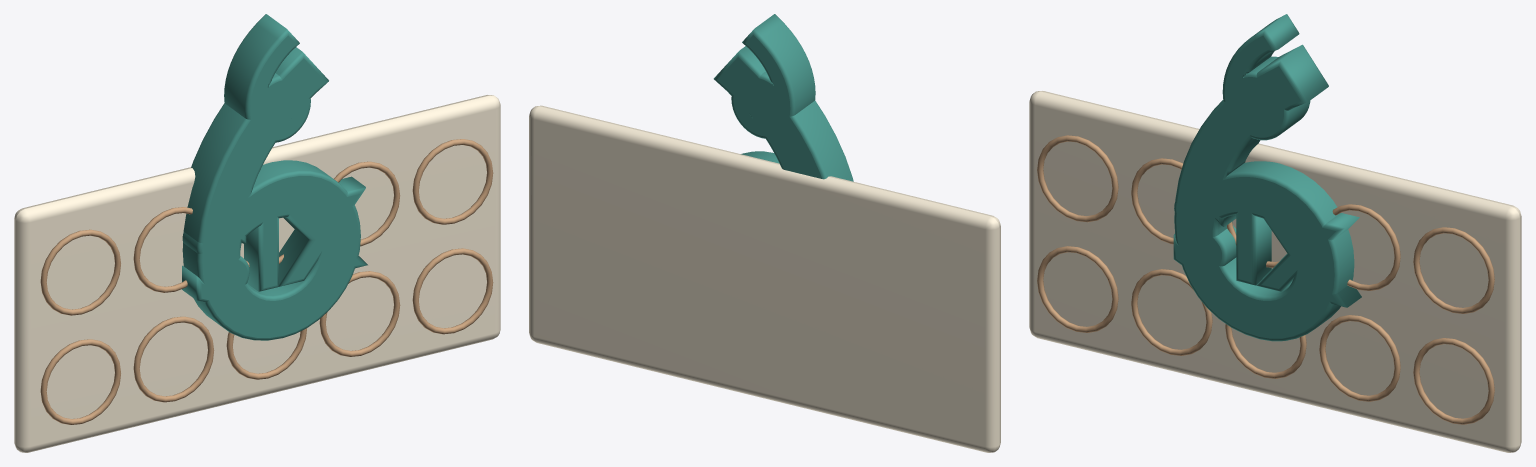
Rendered from number-6.glb.
3 views of the same model, side by side, from view 1: azimuth 30°, elevation 25°; view 2: azimuth 150°, elevation 25°; view 3: azimuth 330°, elevation 25° (orthographic). The views are drawn at different scales.
Parts seen in each view (by area): view 1: ten frame tray, number solid, number word, counting numeral, counting slot.005, counting slot.004, counting slot, counting slot.006, counting slot.009, counting slot.008, counting slot.001, counting slot.003 (+1 smaller); view 2: ten frame tray, number solid, counting numeral; view 3: ten frame tray, number solid, number word, counting numeral, counting slot.008, counting slot.004, counting slot.005, counting slot.009, counting slot, counting slot.006, counting slot.003, counting slot.001 (+1 smaller).
Boxes of the visible parts, box(x1,y1,x2,y2) form: ten frame tray: box(14, 95, 500, 452); number solid: box(182, 47, 360, 340); number word: box(182, 176, 367, 302); counting numeral: box(224, 14, 310, 142); counting slot.005: box(40, 339, 120, 424); counting slot.004: box(412, 139, 493, 224); counting slot: box(40, 229, 120, 315); counting slot.006: box(133, 316, 214, 402); counting slot.009: box(412, 248, 493, 334); counting slot.008: box(319, 271, 400, 356); counting slot.001: box(133, 207, 192, 292); counting slot.003: box(334, 161, 400, 246); ten frame tray: box(529, 105, 1000, 452); number solid: box(713, 46, 853, 181); counting numeral: box(731, 14, 815, 138); ten frame tray: box(1029, 91, 1521, 452); number solid: box(1174, 44, 1354, 341); number word: box(1173, 179, 1361, 307); counting numeral: box(1222, 14, 1310, 140); counting slot.008: box(1319, 315, 1400, 401); counting slot.004: box(1413, 227, 1494, 313); counting slot.005: box(1037, 246, 1118, 332); counting slot.009: box(1413, 338, 1494, 424); counting slot: box(1037, 135, 1118, 222); counting slot.006: box(1131, 269, 1212, 355); counting slot.003: box(1332, 204, 1400, 290); counting slot.001: box(1131, 158, 1183, 244).
Size of what is drawn, in the model's own units: 2.08 by 1.56 by 0.2.
